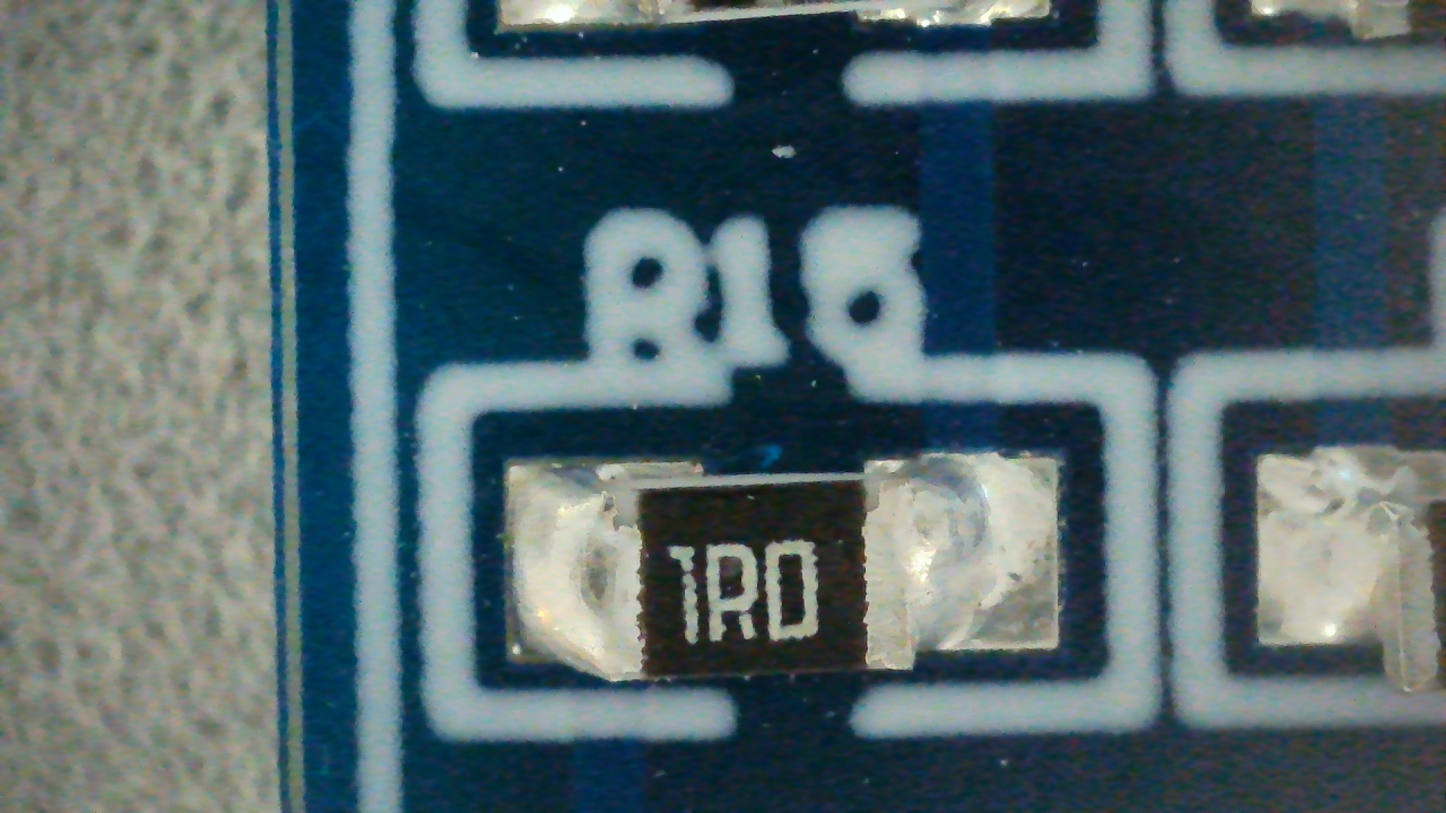NG: (508, 454, 1060, 683)
